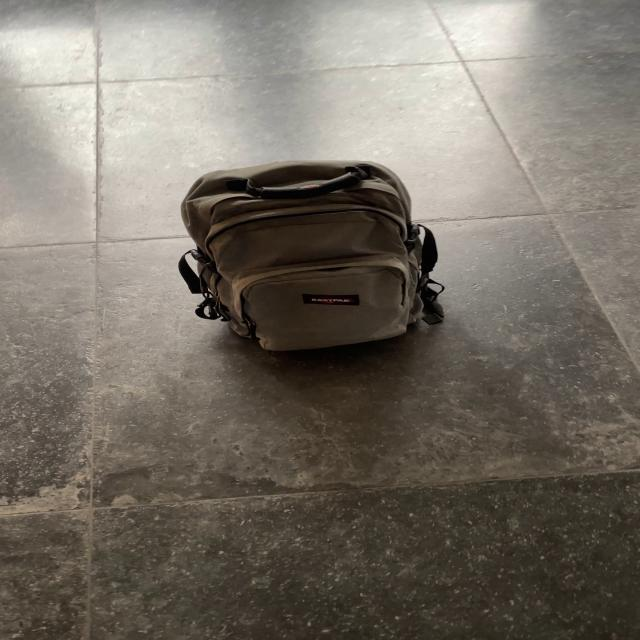backpack: (168, 152, 448, 356)
